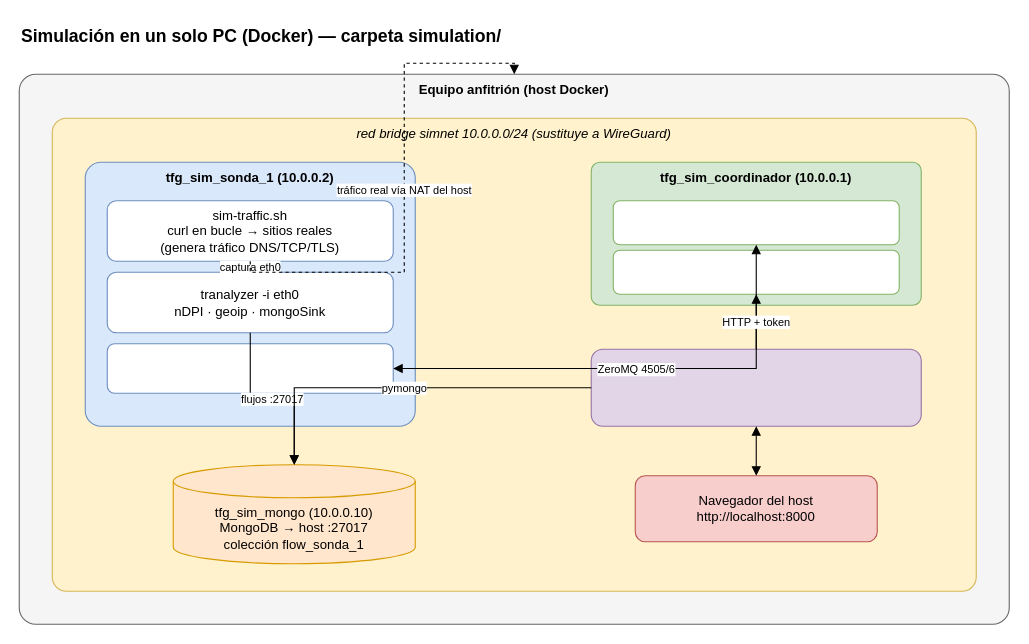
This 1029x644 diagram has some shape labels left out. Here are the shapes that lost their labels. From the top down, the box of each, then its label:
(612, 200, 899, 245): salt-master + autosign (sonda-*)
(612, 249, 899, 294): salt-api (10.0.0.1:8001)
(106, 343, 393, 393): salt-minion (id: sonda-1)
(590, 348, 921, 426): tfg_sim_dashboard (10.0.0.11) FastAPI → host localhost:8000
